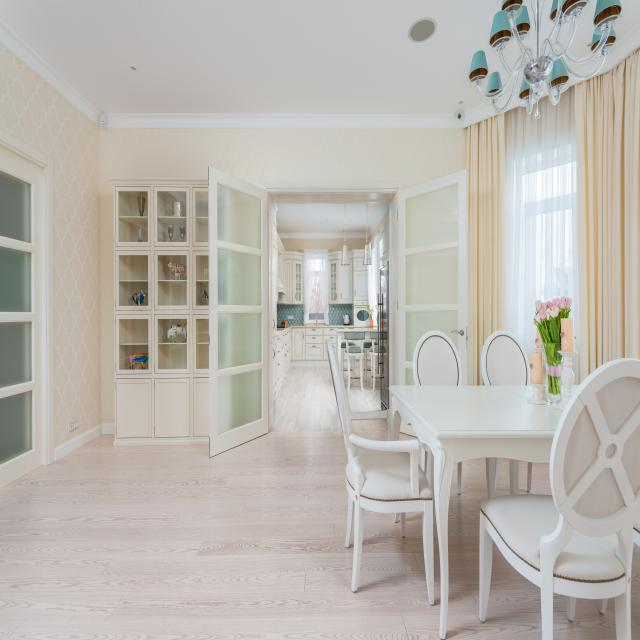floor: (0, 366, 440, 640), (445, 458, 542, 640), (553, 593, 616, 640), (631, 541, 640, 640), (530, 463, 552, 495), (495, 458, 509, 497), (518, 461, 528, 491)
wall: (100, 114, 467, 434), (0, 19, 102, 464), (277, 305, 304, 326), (328, 304, 352, 325)
